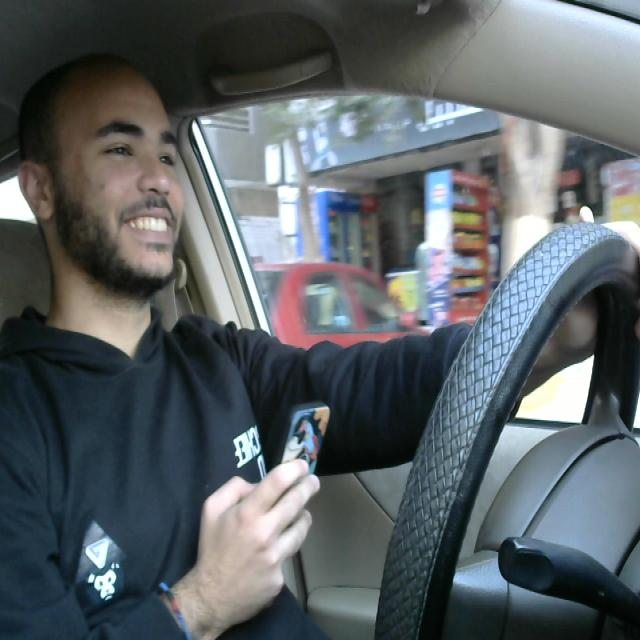mobile use: (276, 396, 329, 546)
